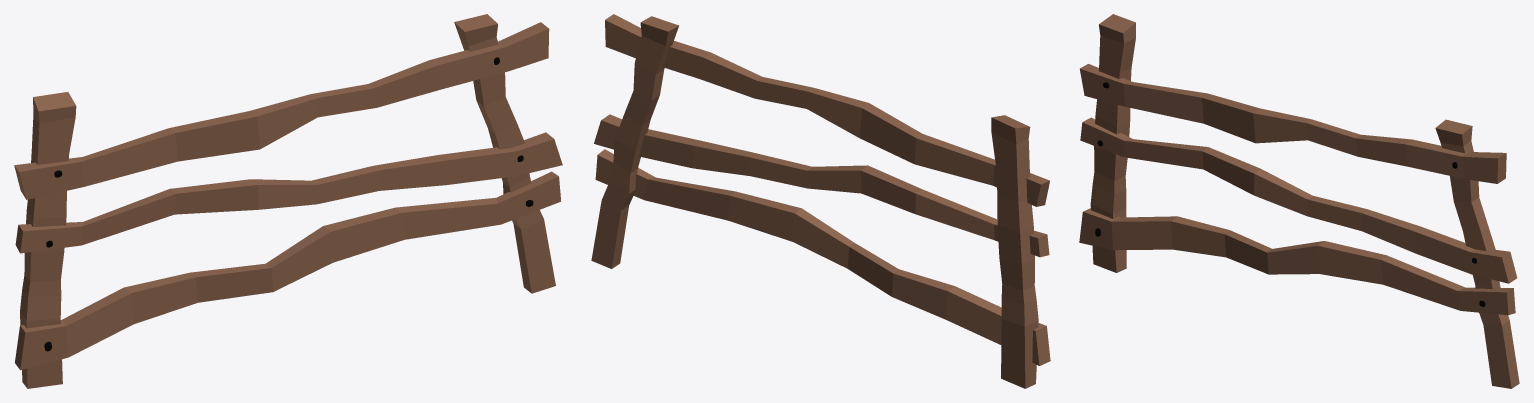
Rendered from tahta çit 2.fbx.
The picture shows the model from 3 angles, left to right: view 1: azimuth 30°, elevation 25°; view 2: azimuth 150°, elevation 25°; view 3: azimuth 330°, elevation 25°; orthographic projection. The views are drawn at different scales.
Parts seen in each view (by area): view 1: çit 2; view 2: çit 2; view 3: çit 2.
Part boxes in pixels (bbox=[...]): çit 2: bbox=[14, 14, 562, 388]; çit 2: bbox=[591, 14, 1050, 388]; çit 2: bbox=[1079, 14, 1519, 388].
Size of the model in its own units: 514 by 272 by 70.33.
